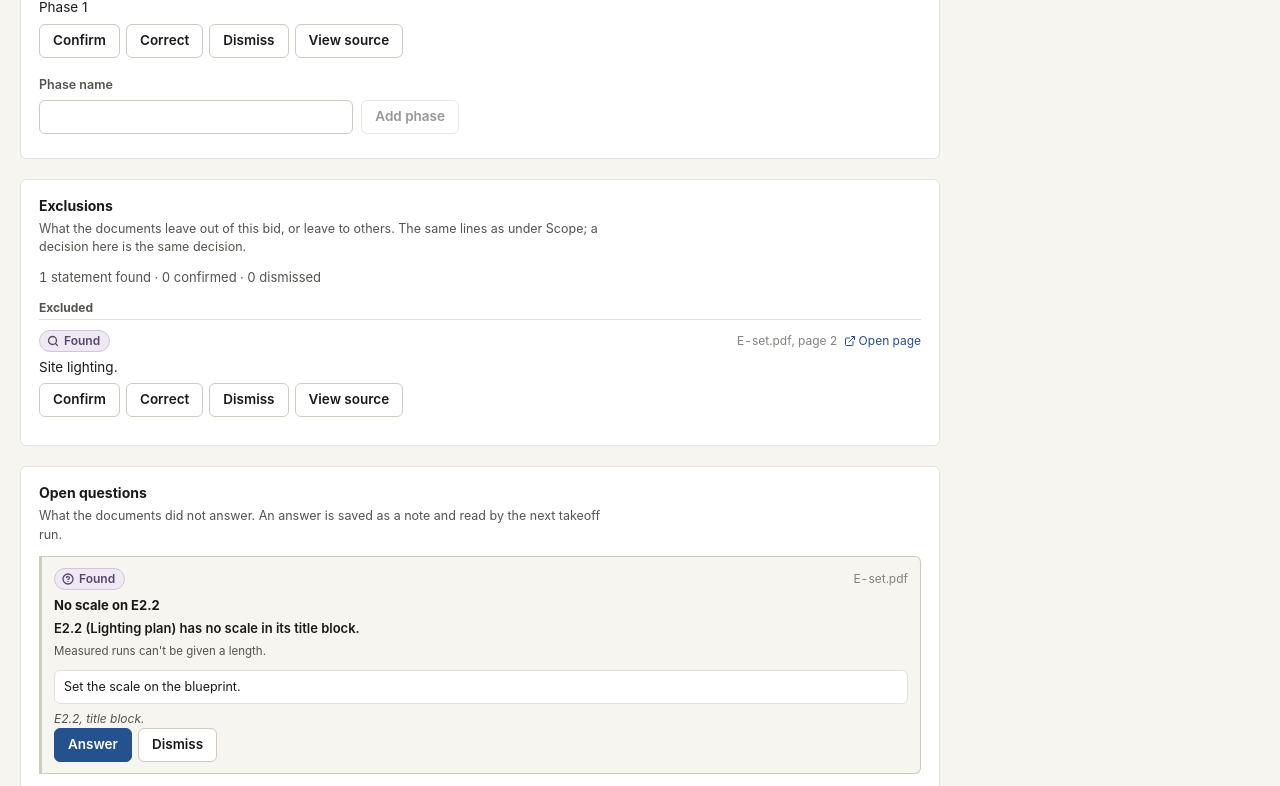
it: PlanWorkspace › a scope decision made under Exclusions shows under Scope too
(page scrolled)
Click the button "Confirm" below "Exclusions": (79, 400) 39,383 -> 120,417
(page scrolled)
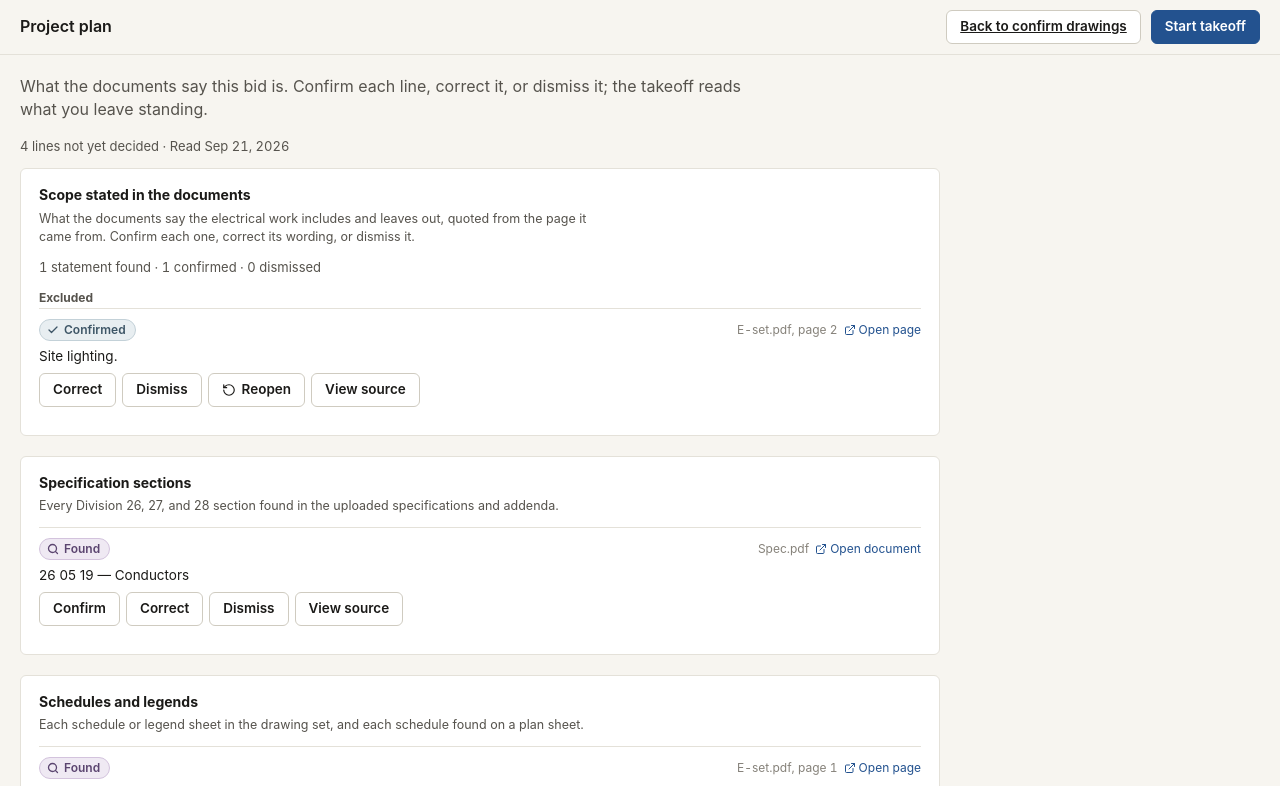
expect the text "Confirmed" is shown: met, box 39,319 -> 136,341
